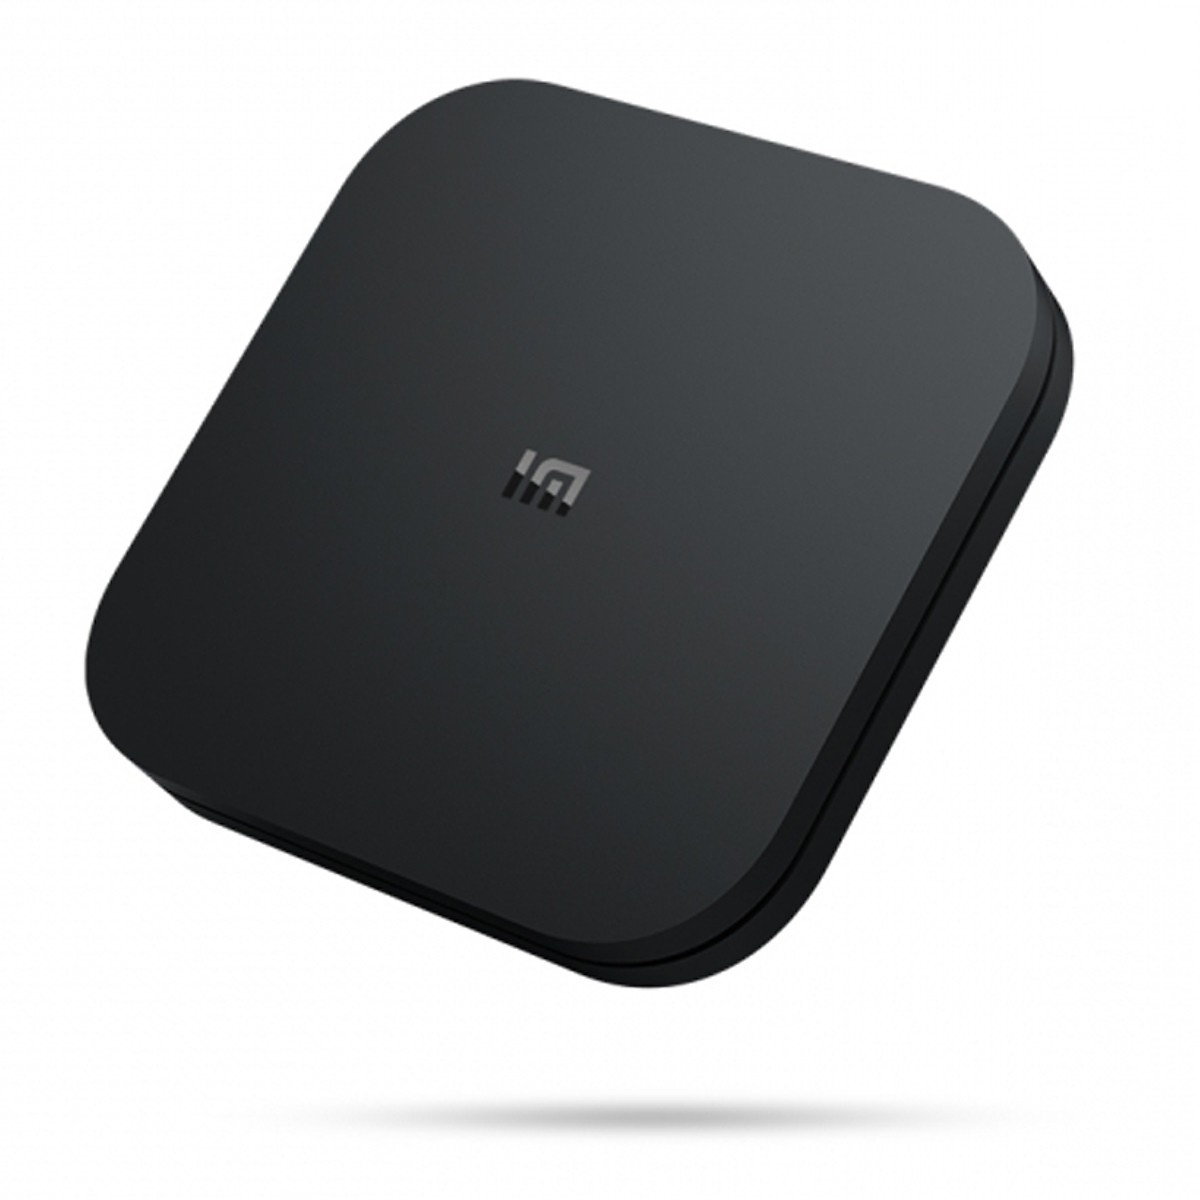Xiaomi: (389, 403, 696, 604)
